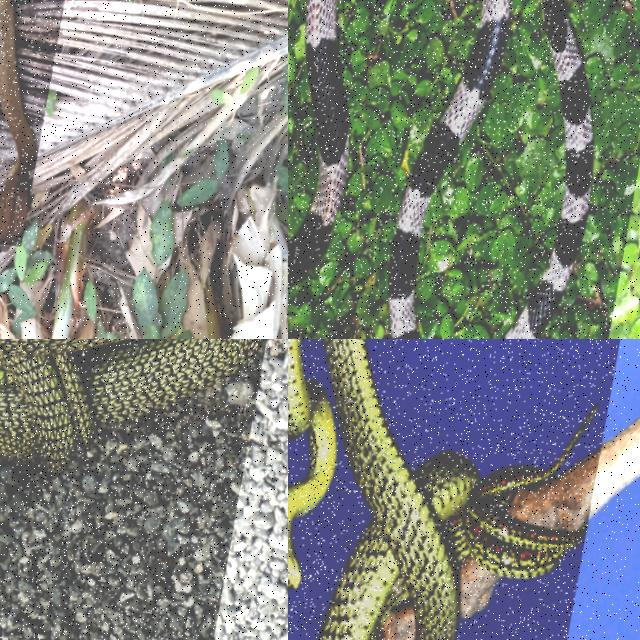Bungarus candidus: (500, 0, 592, 338)
Chrysopelea ornata: (319, 339, 595, 639), (0, 339, 263, 474)
Naja siamensis: (0, 0, 35, 244)
snake: (319, 339, 595, 639), (0, 339, 263, 474), (500, 0, 592, 338), (0, 0, 35, 244)
